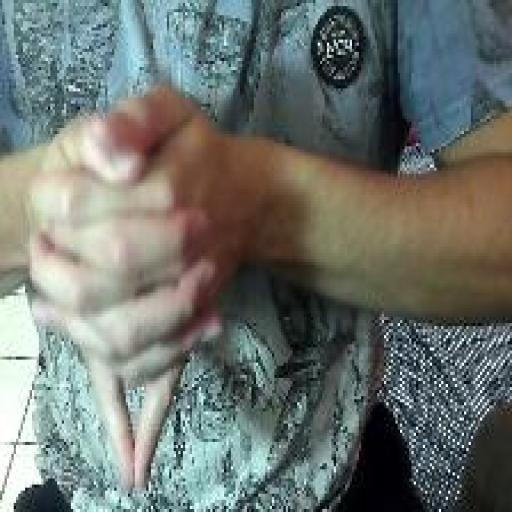Tatsu -dragon-: (26, 75, 230, 501)
